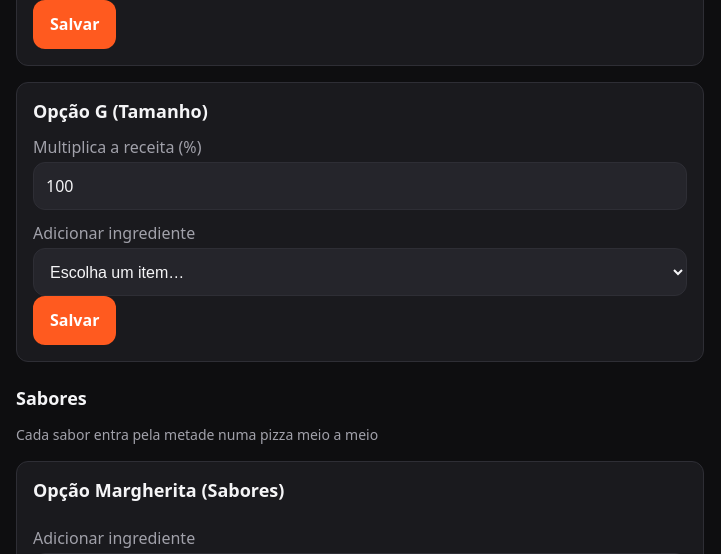
Receitas › 422 mostra a mensagem do servidor
The width and height of the screenshot is (721, 554).
(page scrolled)
Click the button "Salvar" below "Opção G (Tamanho)" at (75, 321), box [33, 296, 116, 345]
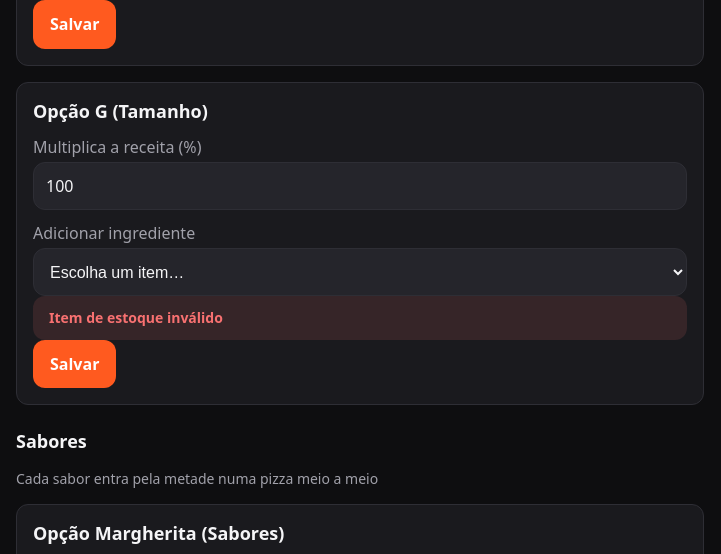
Expected: the message reads "Item de estoque inválido", [49, 308, 223, 328]
